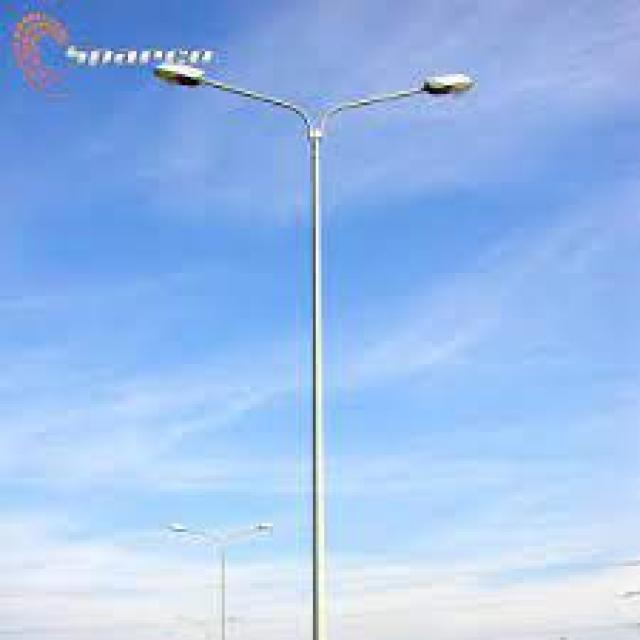Street Light: (153, 62, 472, 640)
